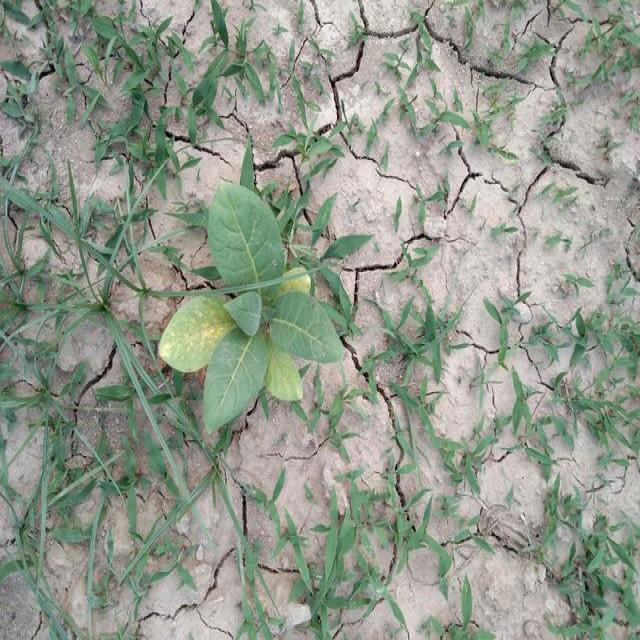crop: (150, 187, 346, 441)
